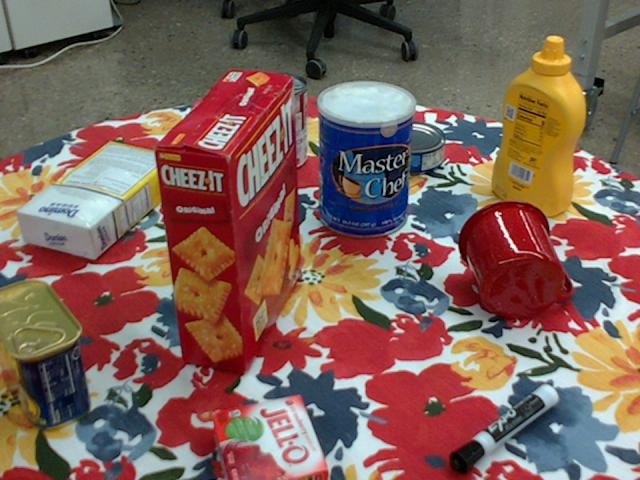cracker_box: (149, 69, 296, 373)
gelatin_box: (212, 394, 332, 479)
large_marker: (452, 383, 560, 471)
master_chef_can: (317, 80, 415, 239)
mug: (456, 199, 572, 318)
mustard_bottle: (489, 38, 584, 216)
potted_meat_can: (0, 278, 89, 428)
sugar_box: (16, 142, 177, 260)
tomato_soup_can: (250, 72, 307, 171)
tuna_fish_can: (378, 122, 447, 175)
